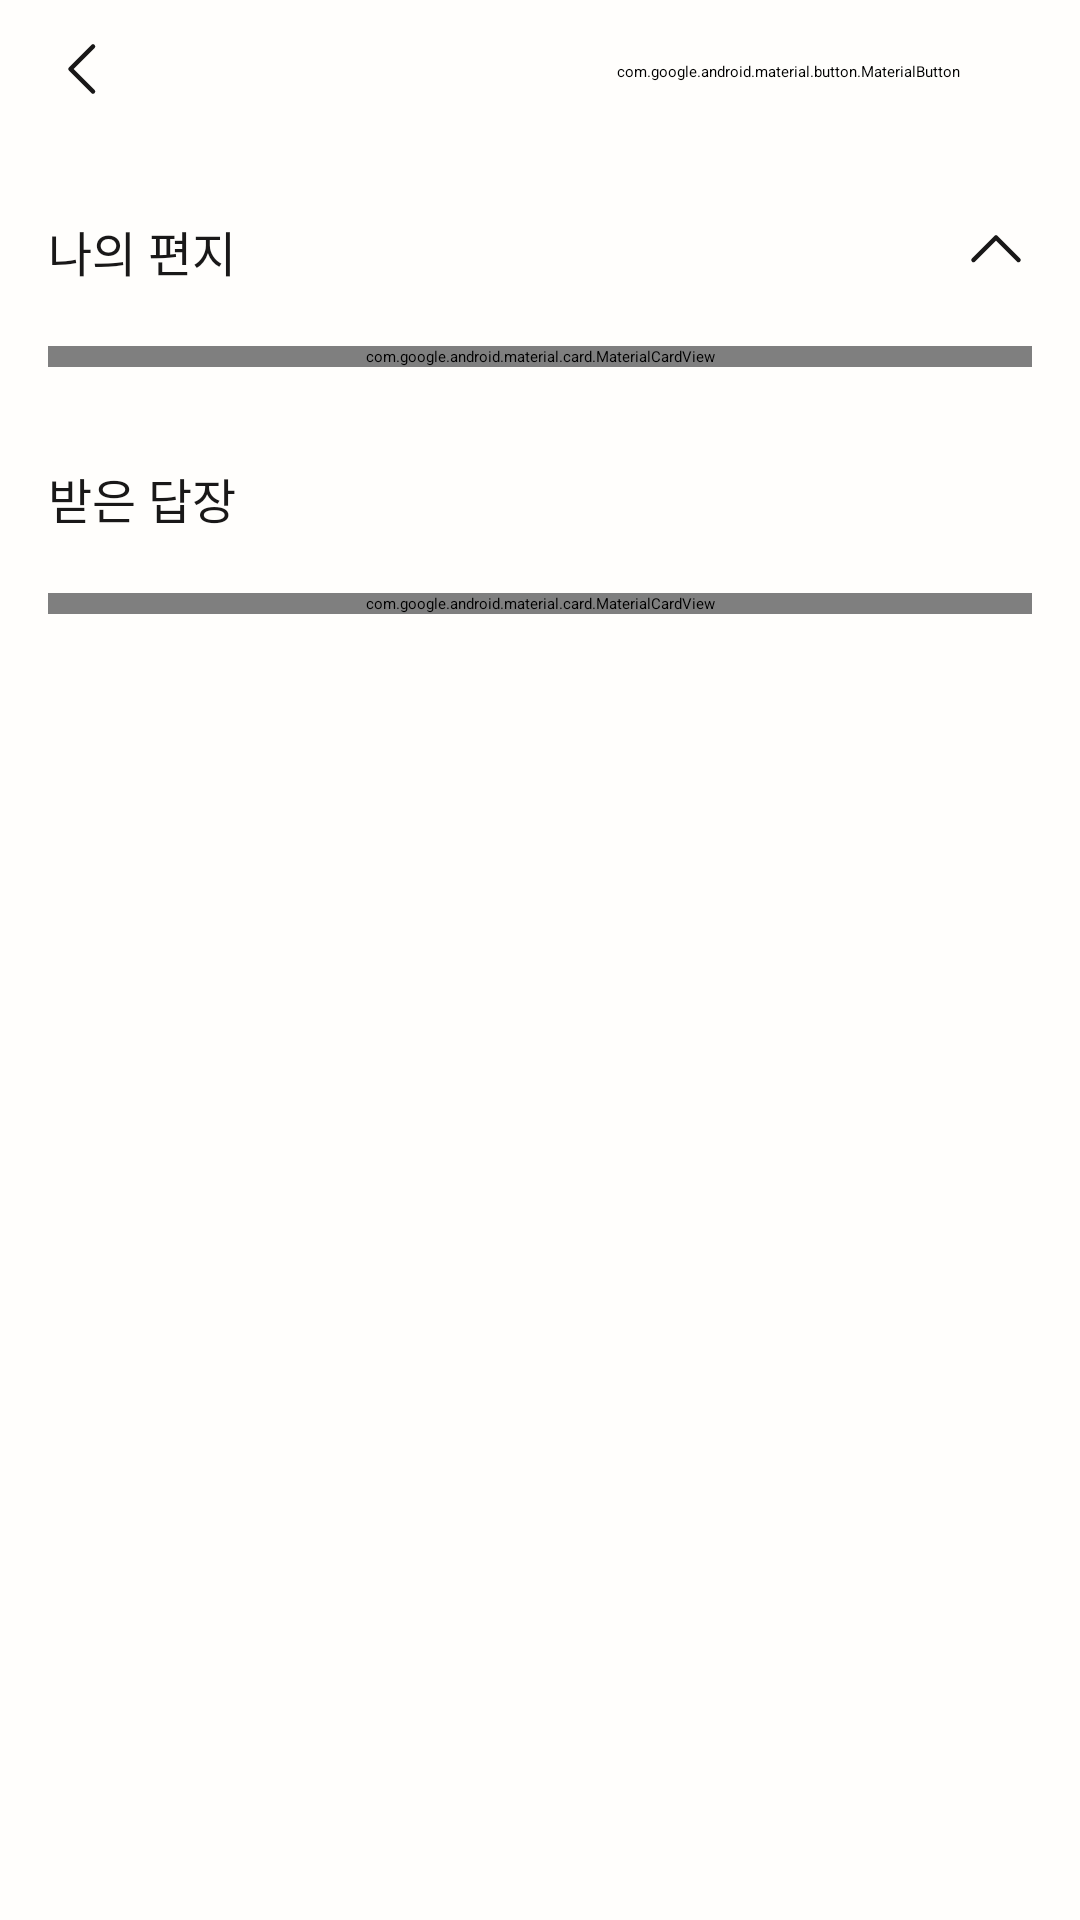

Where to tap for icons on this 1080w x 1920h app screen, as point (x, y):
chevron left: point (82, 69)
chevron up: point (996, 249)
